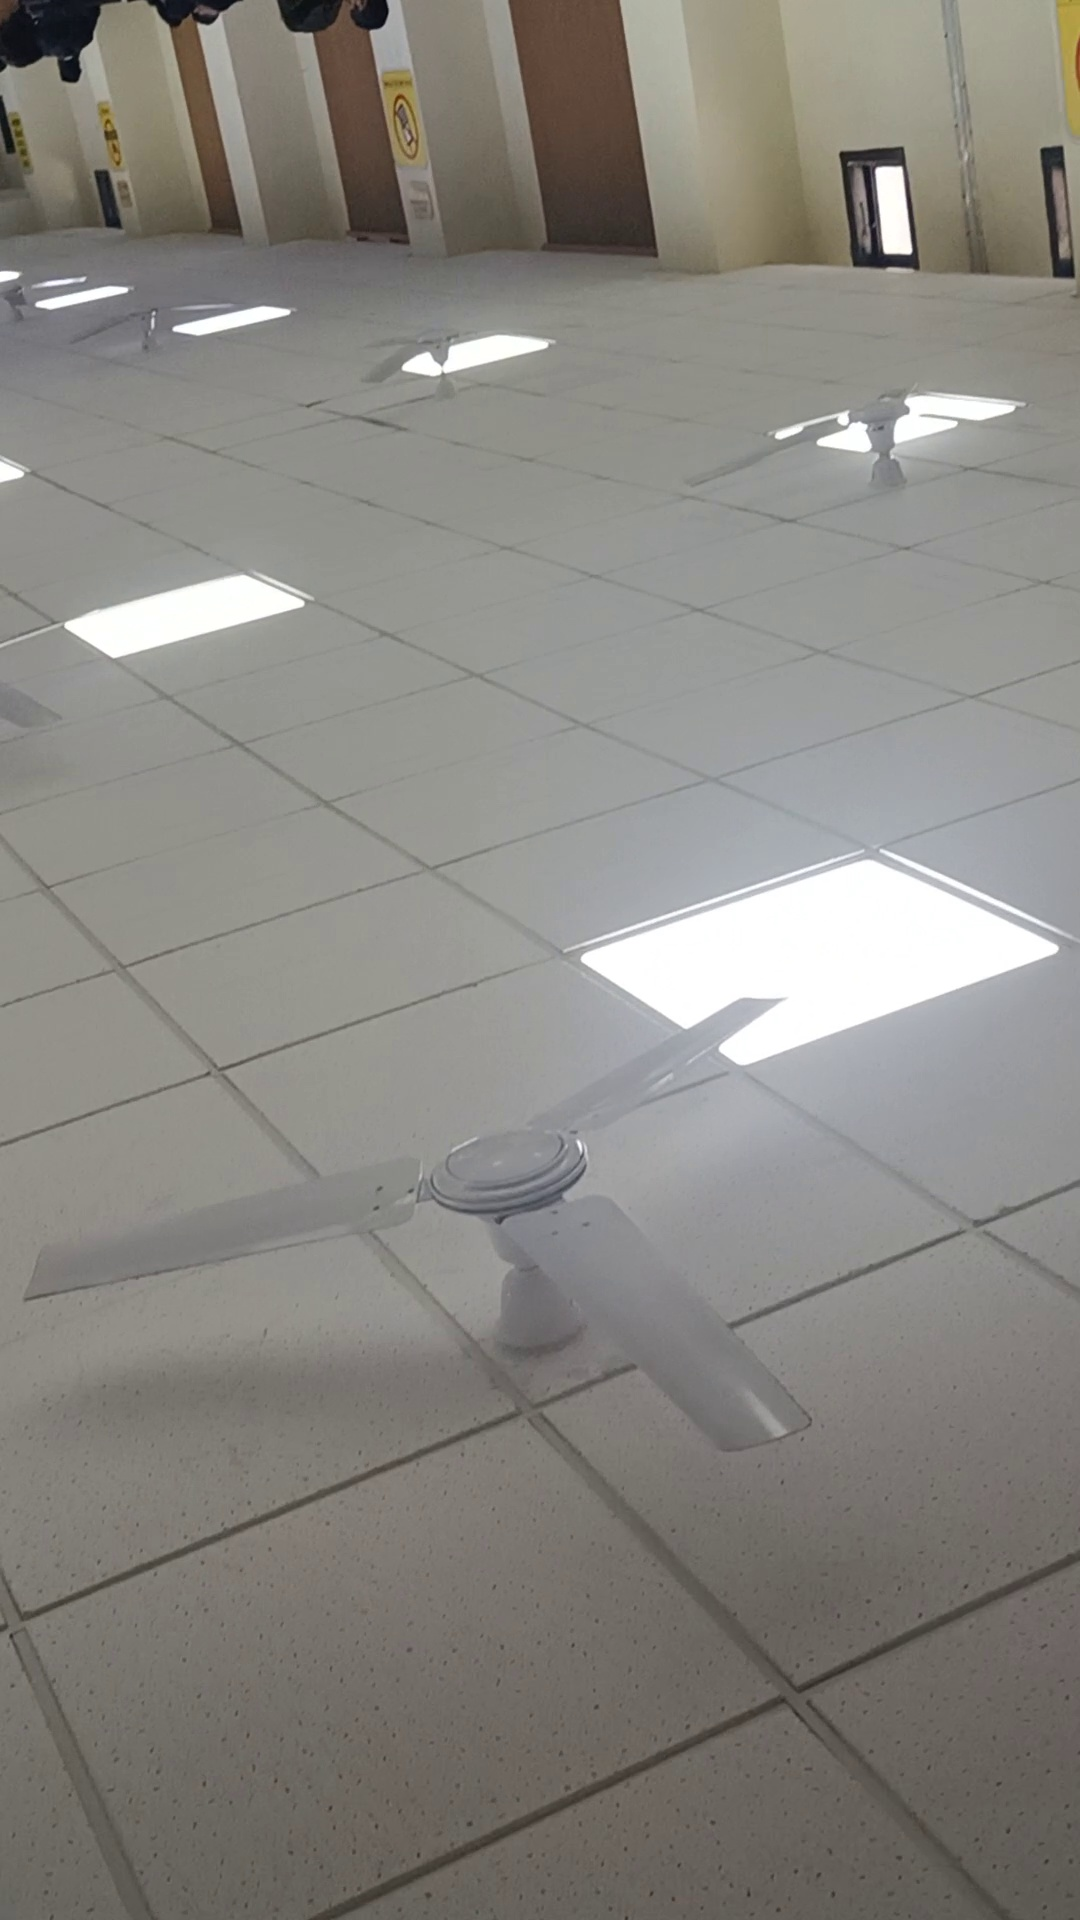fan: (1, 956, 920, 1495), (673, 349, 1001, 527), (343, 311, 514, 425)
